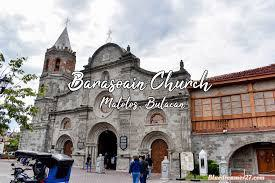barasoain_church_malolos_bulacan: (19, 16, 191, 174)
